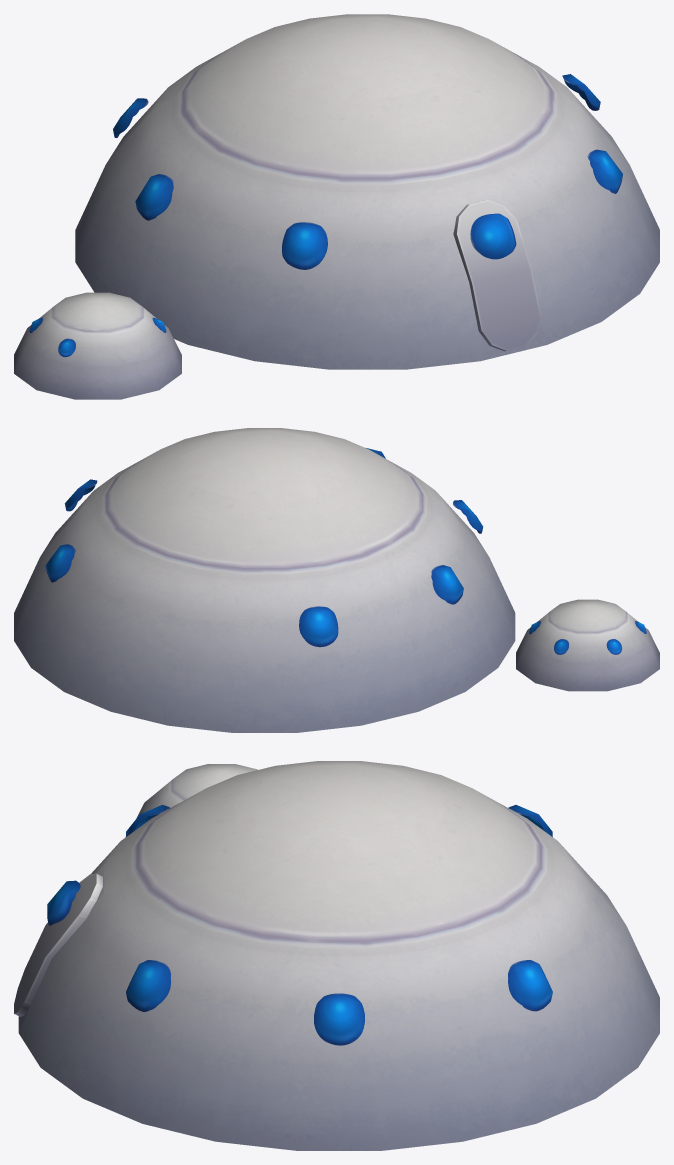
Rendered from nameikexing_jianzhu_05.FBX.
3 renders of one model, top to bottom at view 1: azimuth 30°, elevation 25°; view 2: azimuth 150°, elevation 25°; view 3: azimuth 270°, elevation 25°, orthographic. The views are drawn at different scales.
Parts seen in each view (by area): view 1: nameikexing_jianzhu2_02, nameikexing_jianzhu1_005; view 2: nameikexing_jianzhu2_02, nameikexing_jianzhu1_005; view 3: nameikexing_jianzhu2_02, nameikexing_jianzhu1_005.
Part boxes in pixels (x1,y1,x2,y2): nameikexing_jianzhu2_02: (75,14,659,369); nameikexing_jianzhu1_005: (14,74,622,399); nameikexing_jianzhu2_02: (14,428,515,732); nameikexing_jianzhu1_005: (45,448,659,691); nameikexing_jianzhu2_02: (18,761,659,1150); nameikexing_jianzhu1_005: (14,764,552,1045).
Bounding box in the file's own units: 1415 × 427 × 1112.
